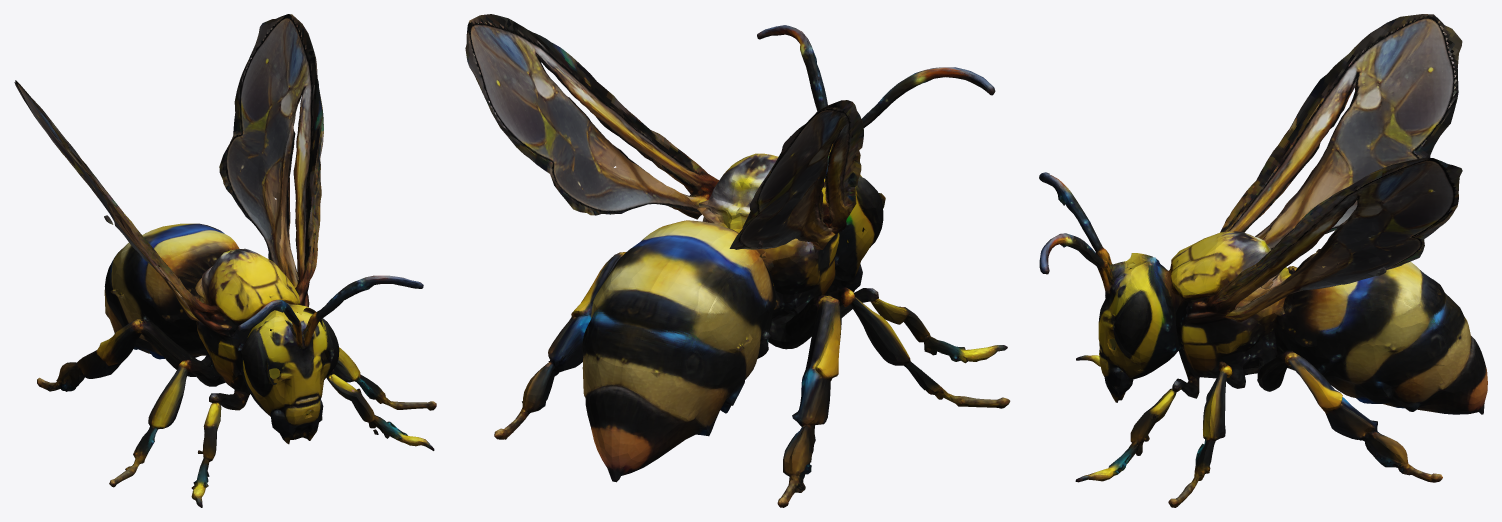
3 renders of one model, left to right at view 1: azimuth 30°, elevation 25°; view 2: azimuth 150°, elevation 25°; view 3: azimuth 270°, elevation 25°, orthographic. The views are drawn at different scales.
Visible parts, largest first — view 1: world; view 2: world; view 3: world.
Boxes of the visible parts, box(x1,y1,x2,y2) form: world: box(14, 14, 436, 507); world: box(465, 14, 1010, 507); world: box(1039, 14, 1487, 507).
Bounding box in the file's own units: 0.9037 × 0.8354 × 0.9986.
1 material, 1 textured.
